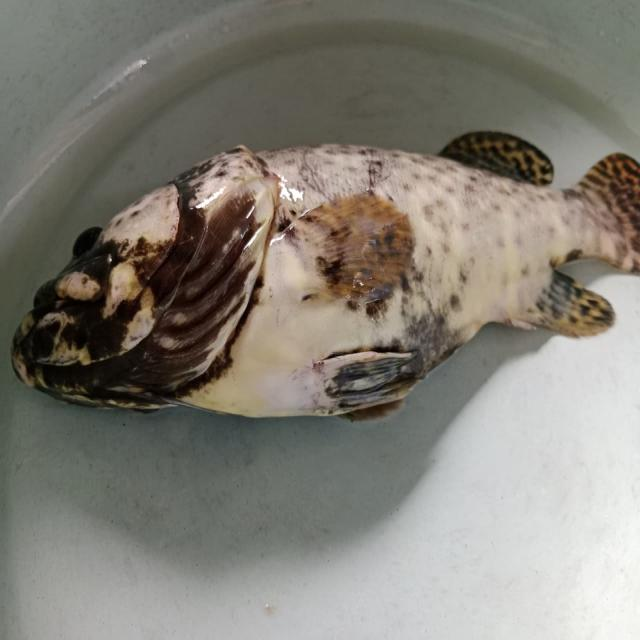ikan: (10, 112, 636, 433)
